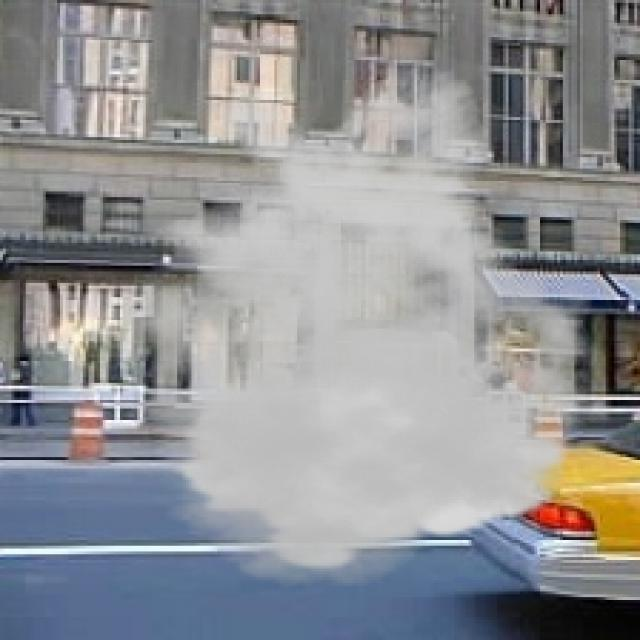Smoke: (68, 62, 623, 588)
